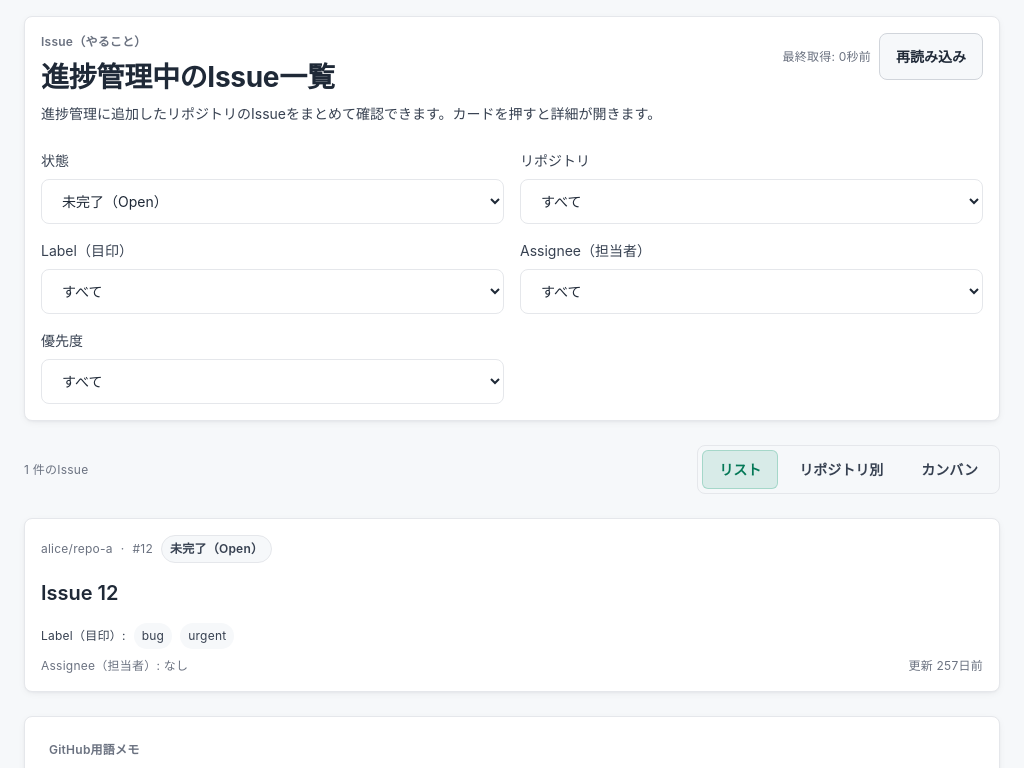
Test: IssuesHome › refreshes labels without PATCH when the latest issue already matches the draft
This screenshot has width=1024, height=768.
Click the button with aria-label "alice/repo-a #12: Issue 12 の詳細を開く": {"x": 512, "y": 605} [24,518,1000,692]
(page scrolled)
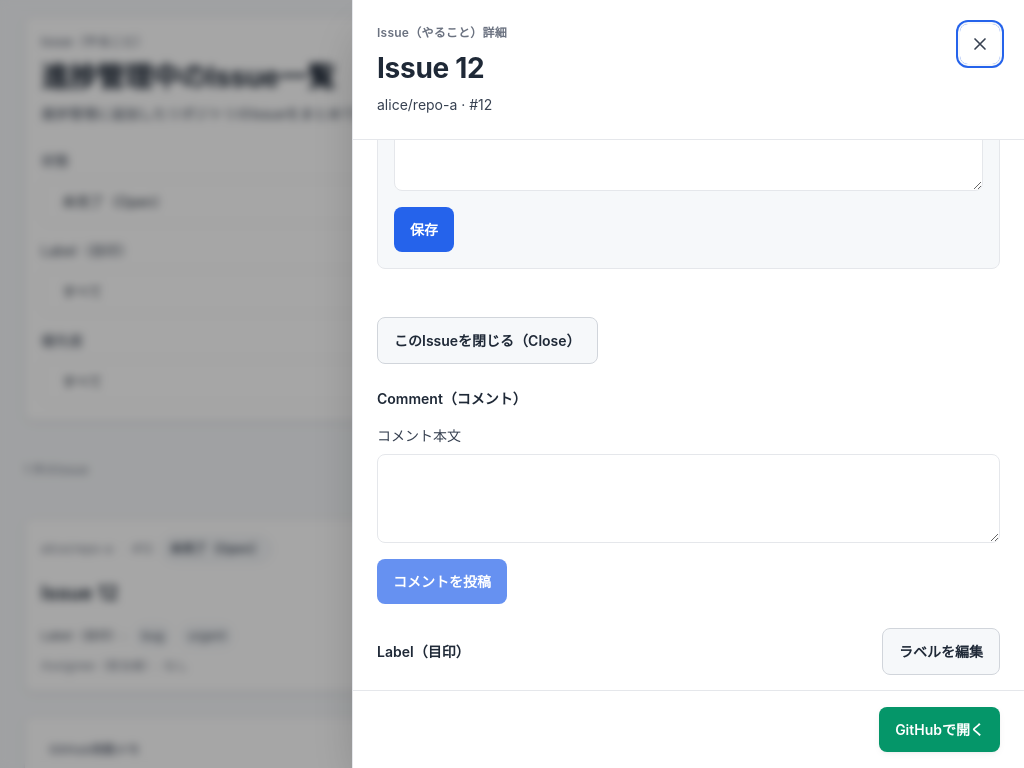
Click the button "ラベルを編集": {"x": 941, "y": 651} [882,628,1000,675]
(page scrolled)
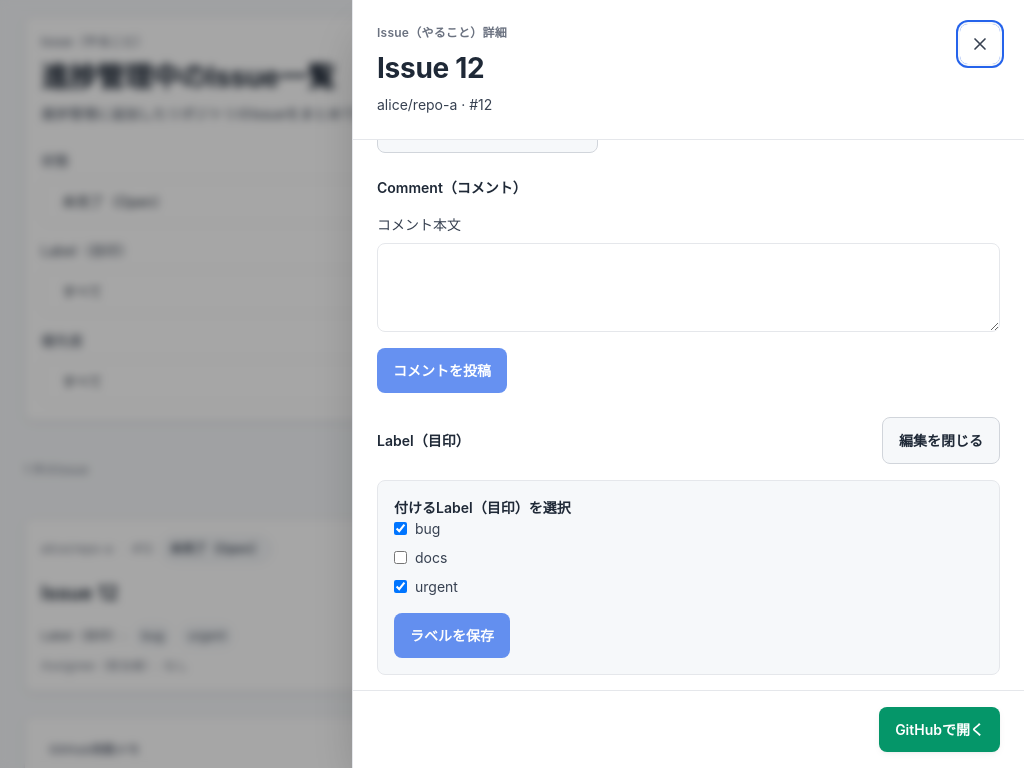
Click the checkbox labelled "urgent": {"x": 400, "y": 586} [394,580,407,593]
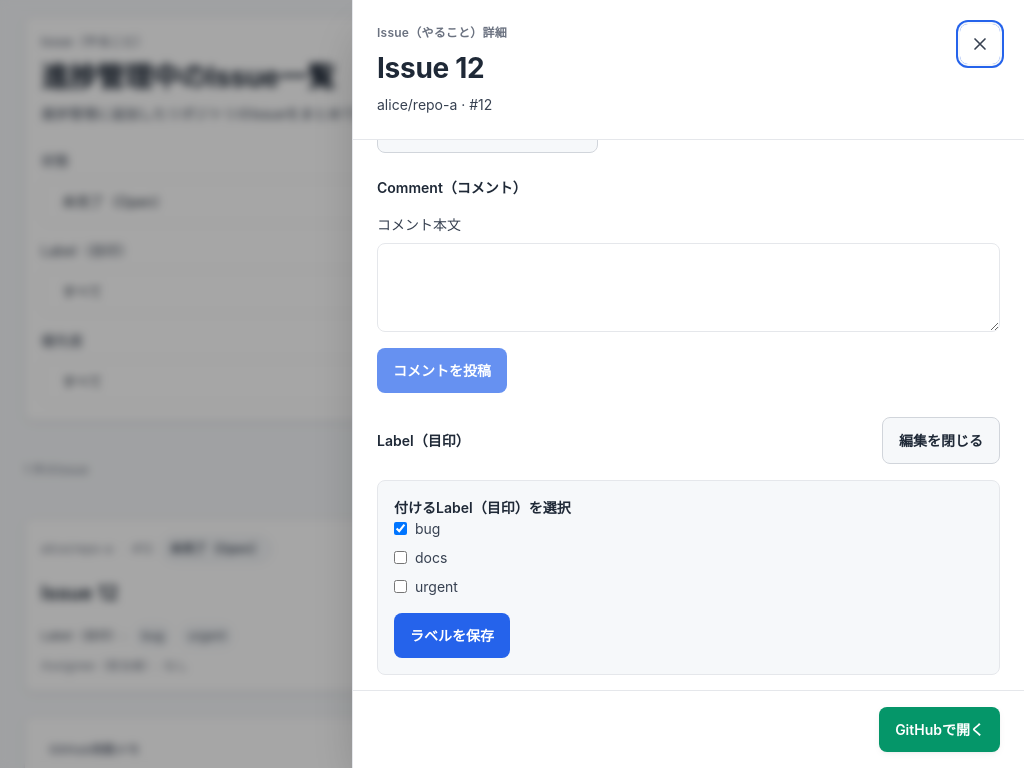
Click the checkbox labelled "docs": {"x": 400, "y": 557} [394,551,407,564]
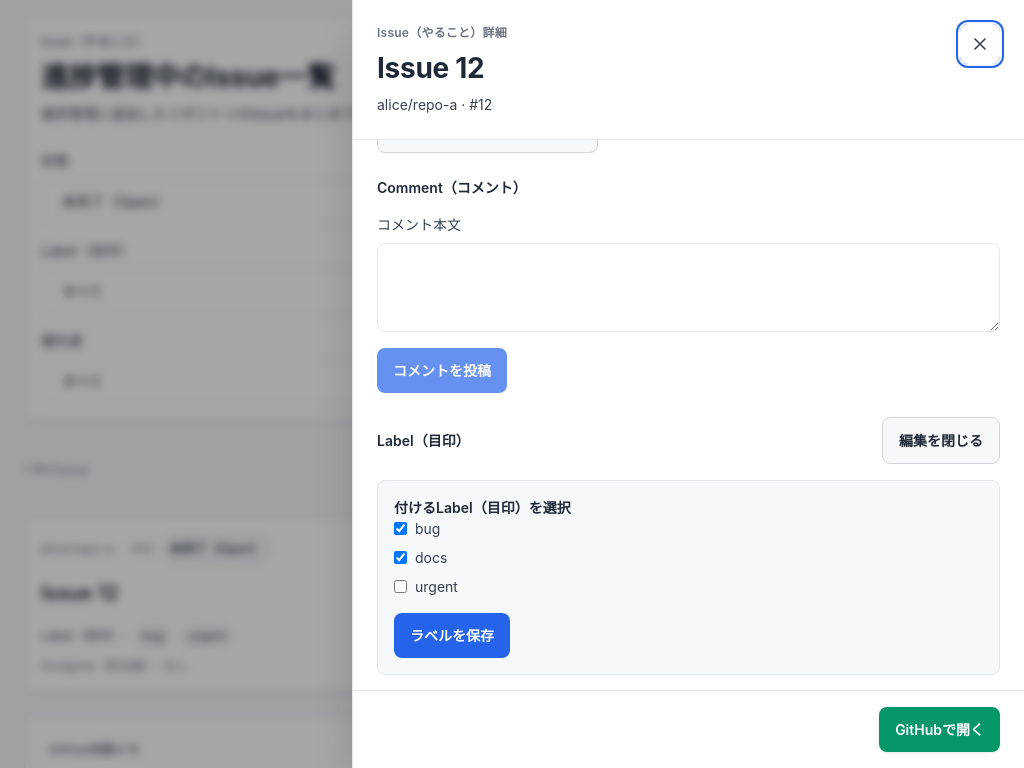
Click the button "ラベルを保存": {"x": 452, "y": 635} [394,613,510,658]
(page scrolled)
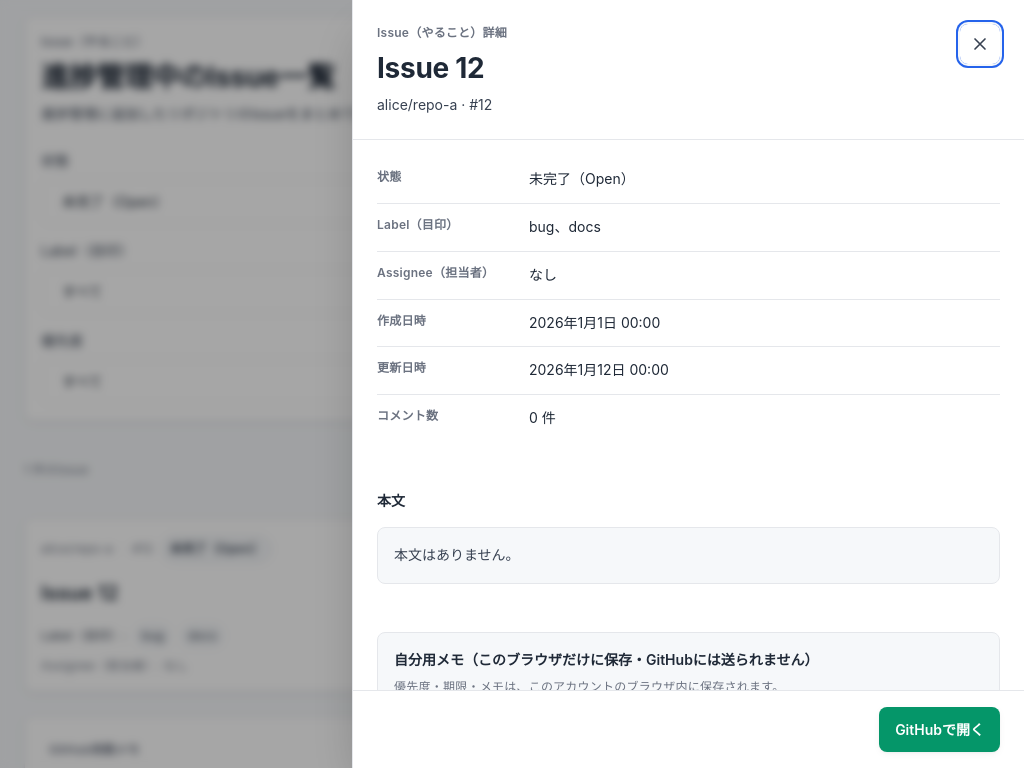
Expected: the text "bug、docs" is shown, [529,218,601,235]
